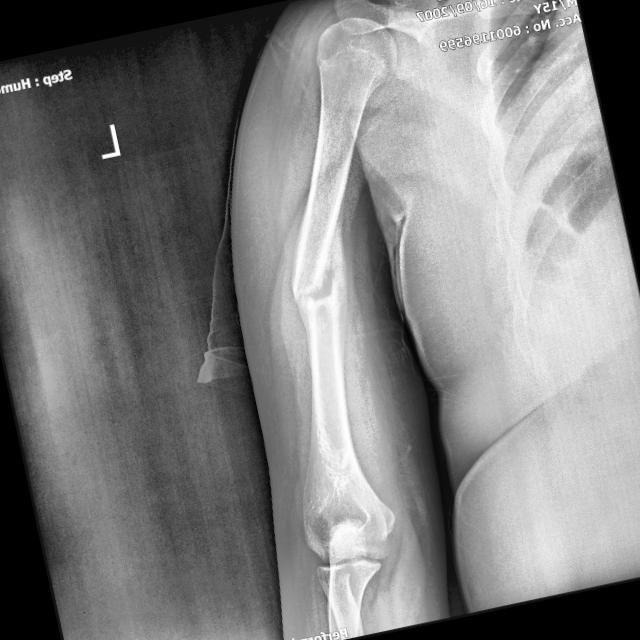Fracture: (263, 223, 364, 338)
